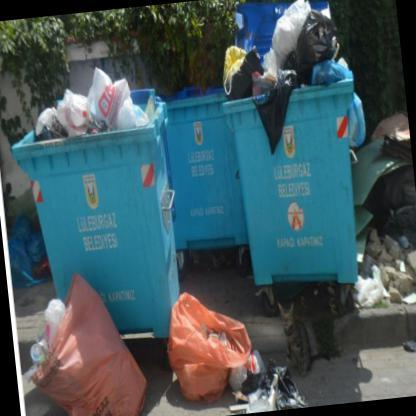Garbage: (22, 264, 168, 415), (215, 0, 354, 101), (167, 288, 256, 405), (229, 360, 305, 414), (29, 75, 90, 138), (292, 10, 343, 82), (85, 59, 142, 122), (219, 30, 270, 99), (268, 6, 307, 52), (347, 94, 374, 146)
